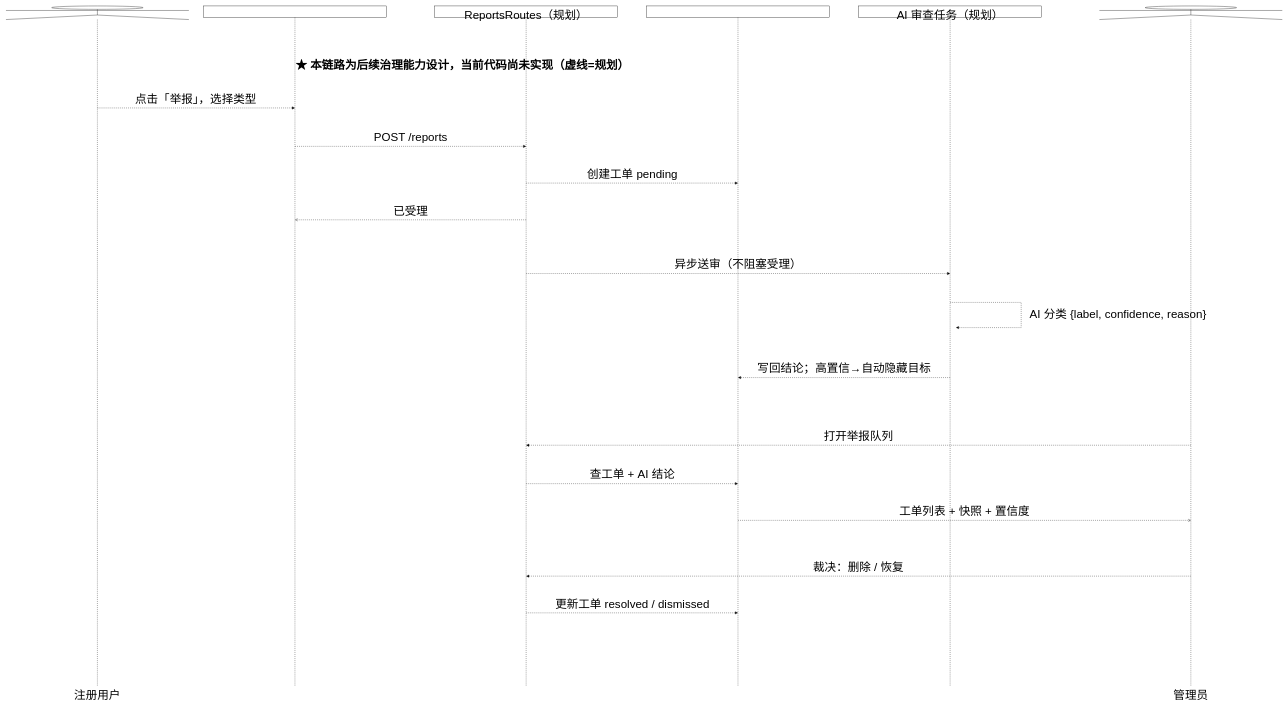
This 1288x708 diagram has some shape labels left out. Each missing label, with the box of its shape:
DB · reports: (646, 6, 829, 686)
前端: (203, 6, 386, 686)
